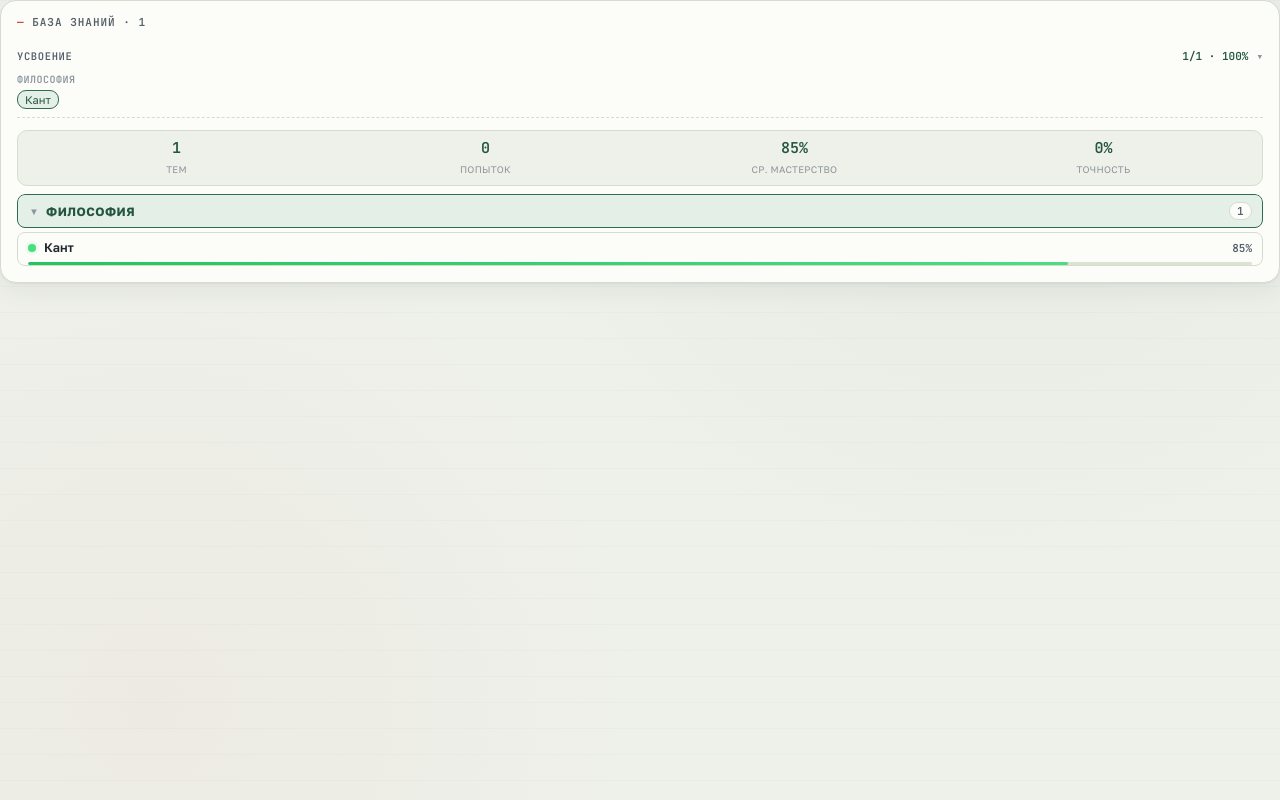
it: KnowledgeWikiPanel › закрывает модал по клику на фон
expect the button "▾ Философия 1" is shown: met, box [17, 194, 1263, 228]
What coordinates should you click on to do the following:
click the button "Кант 85%"
I would click on:
 (32, 248)
Its box is [18, 233, 1262, 262].
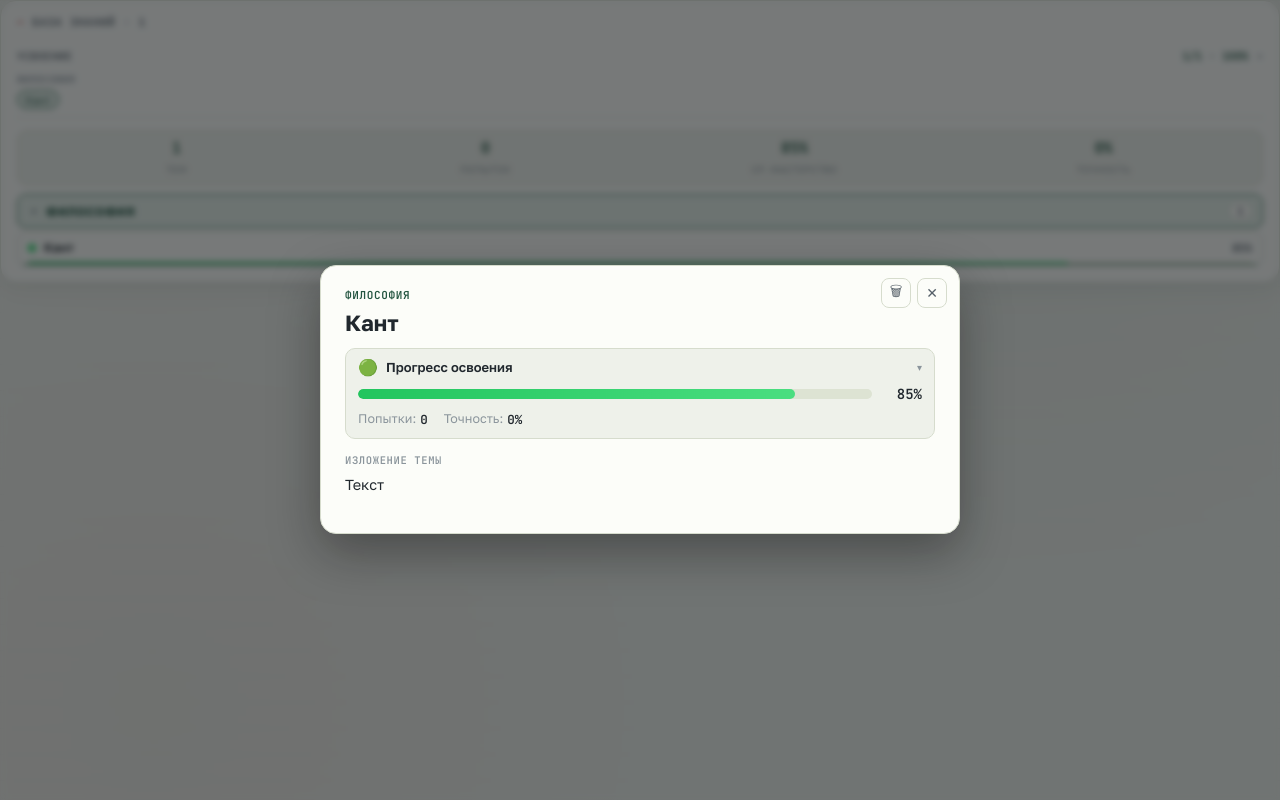
expect the dialog is shown: met, box [320, 265, 960, 535]
What coordinates should you click on to do the following:
click the element with class "topic-modal-backdrop"
I would click on:
 (77, 400)
Its box is [0, 0, 1279, 799].
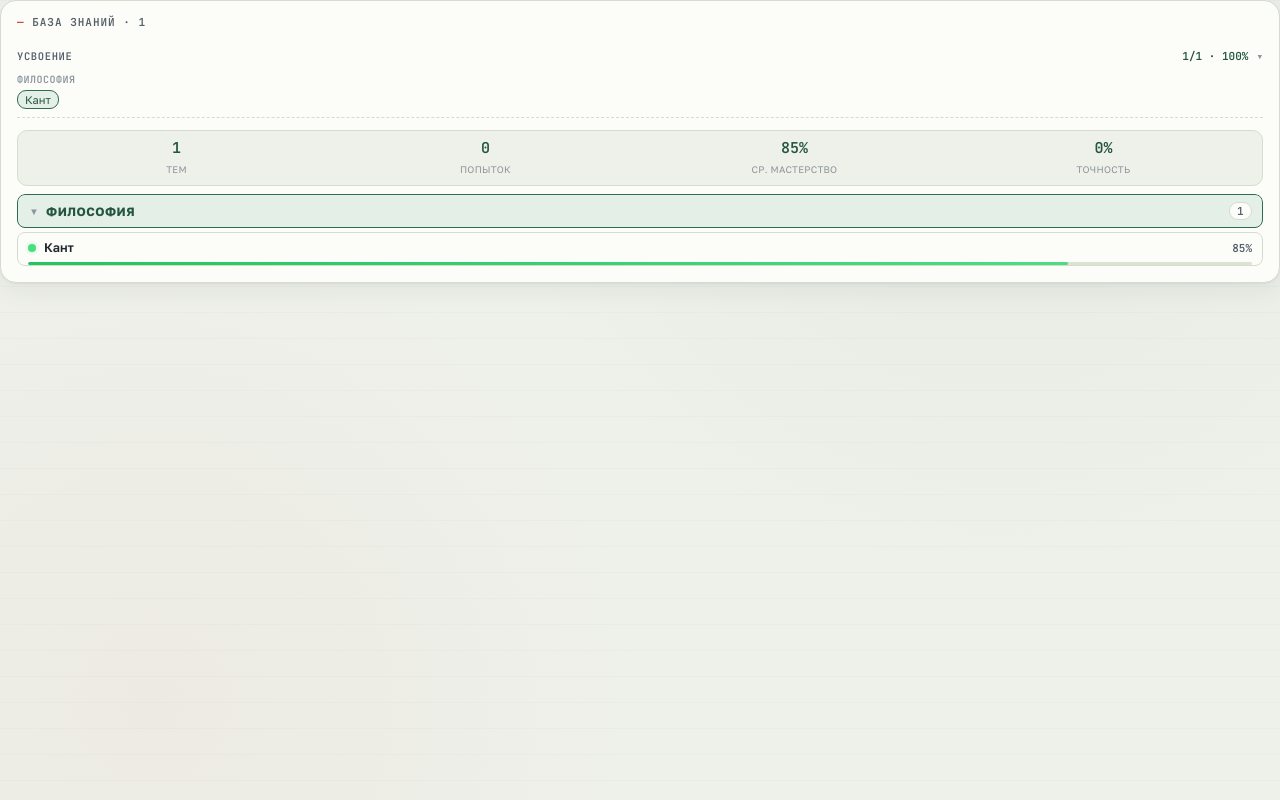
expect the dialog is gone: met
